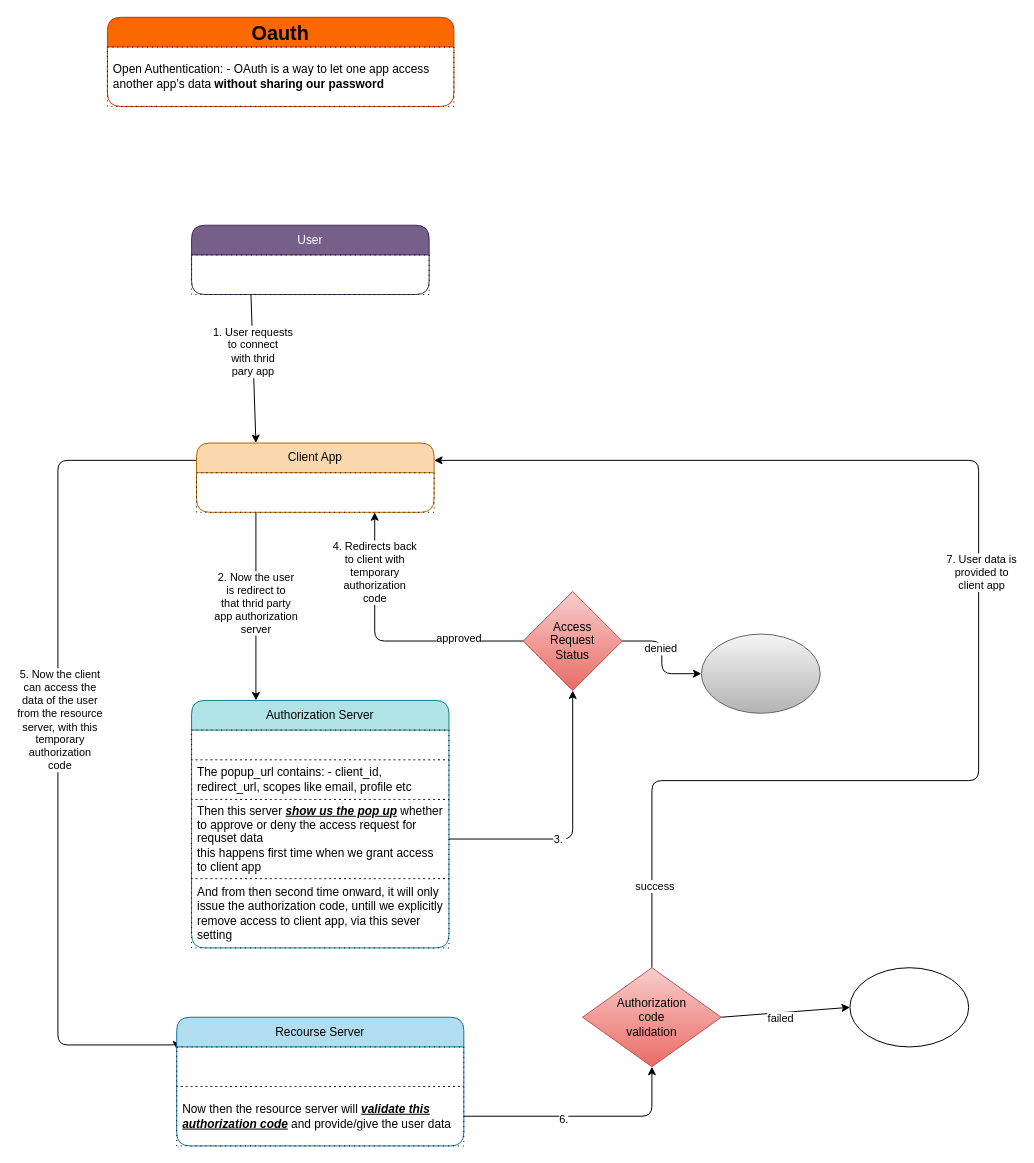
Some shapes in this 1034 by 1163 pixel diagram are drawn without their labels. Here are the shapes that lost their labels. From the top down, the centre of each, then its label:
At (x=310, y=274): "User is the Resource owner : - User has google or github accout, with their data".
At (x=315, y=492): "The app requesting the access of Thrid party app".
At (x=760, y=673): "4. Access not Granted".
At (x=320, y=744): "Eg: - Google, X, Github Oauth server".
At (x=909, y=1007): "7. Data not provided".
At (x=320, y=1066): "The API holding the actual data like Google drive, X, Github API".
